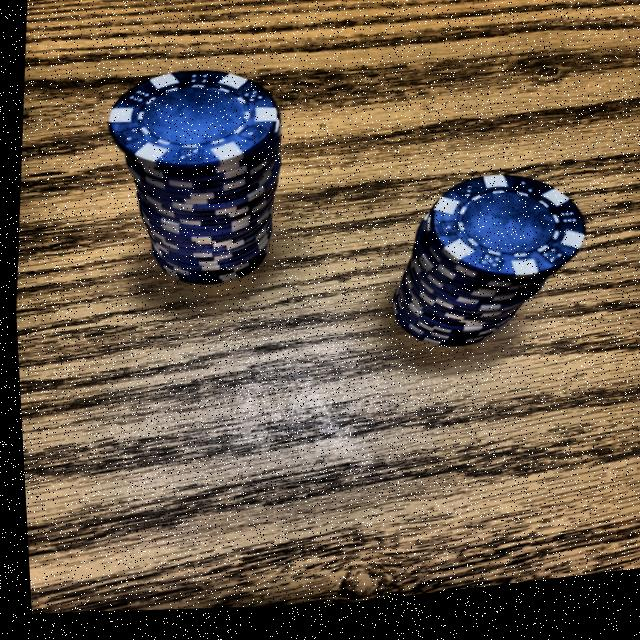Chip: (78, 39, 317, 327), (362, 145, 608, 397)
